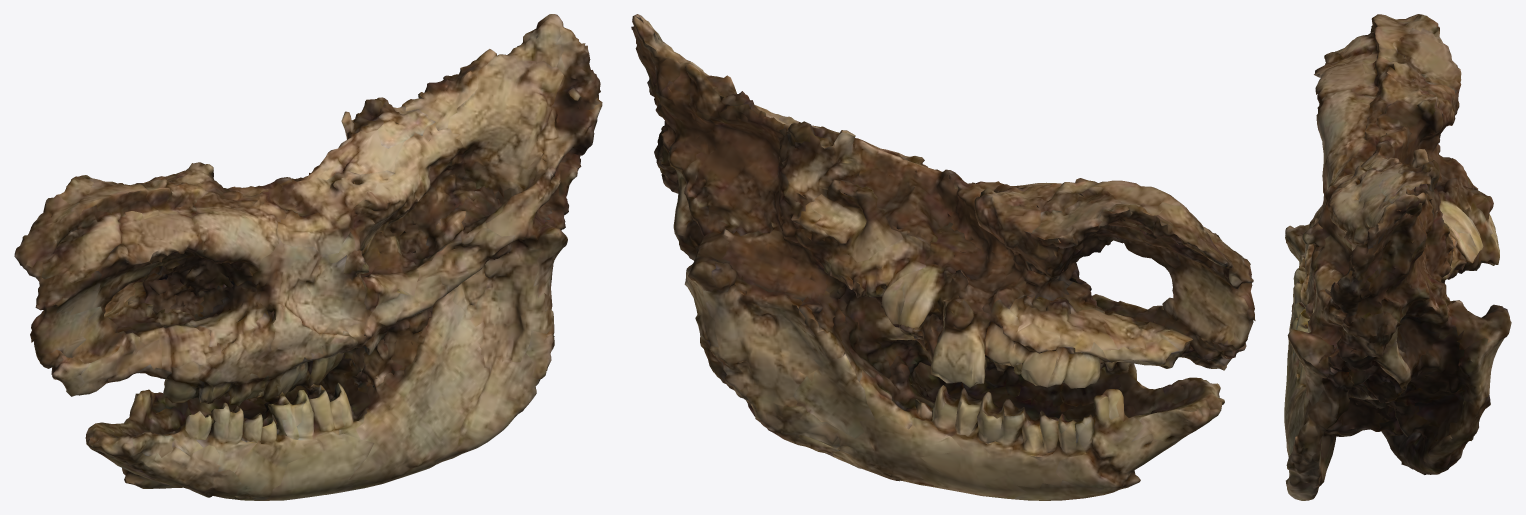
3 views of the same model, side by side, from view 1: azimuth 30°, elevation 25°; view 2: azimuth 150°, elevation 25°; view 3: azimuth 270°, elevation 25° (orthographic). The views are drawn at different scales.
Visible parts, largest first — view 1: rino_LP; view 2: rino_LP; view 3: rino_LP.
Boxes of the visible parts, left/top/right/bottom form: rino_LP: left=14, top=14, right=602, bottom=500; rino_LP: left=631, top=14, right=1255, bottom=500; rino_LP: left=1284, top=14, right=1511, bottom=500.
Bounding box in the file's own units: 0.6675 × 0.4241 × 0.2247.
1 material, 1 textured.
